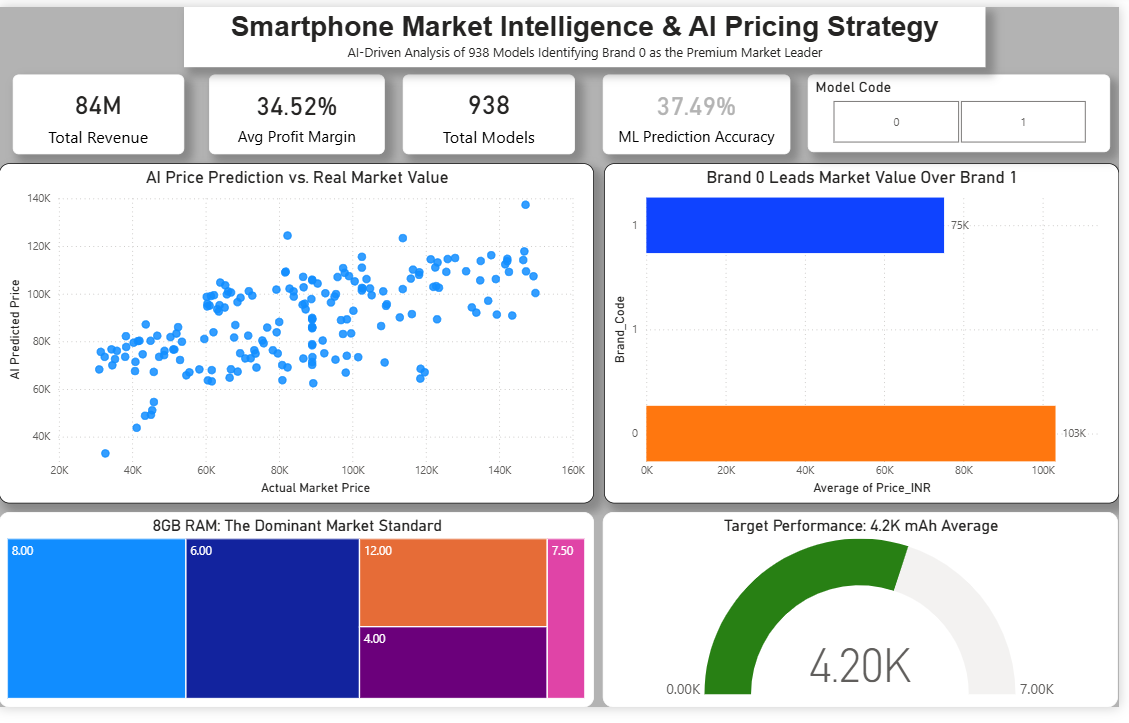

This screenshot's page, from the dashboard's own definition file:
{"tool":"powerbi","page":{"name":"Page 1","canvas":[1280,800],"ordinal":0},"visuals":[{"type":"card","title":"Total Revenue","fields":{"Values":["Sum(model_ready_data.Price_INR)"]},"box":[15.9,76.7,195.8,91.3],"z":0},{"type":"card","fields":{"Values":["Avg(model_ready_data.Profit_Margin)"]},"box":[239.4,76.7,201.1,91.3],"z":1000},{"type":"card","title":"Total Models","fields":{"Values":["model_ready_data.Total Models"]},"box":[461.6,76.7,197.1,91.3],"z":2000},{"type":"card","fields":{"Values":["model_ready_data.Model Accuracy"]},"box":[690.5,76.7,214.3,91.3],"z":3000},{"type":"scatterChart","title":"AI Price Prediction vs. Real Market Value","fields":{"X":["model_results_for_dashboard.Actual_Price"],"Y":["model_results_for_dashboard.Predicted_Price"]},"box":[0,178.6,679.9,388.9],"z":4000},{"type":"clusteredBarChart","title":"Brand 0 Leads Market Value Over Brand 1","fields":{"Category":["model_ready_data.Brand_Code"],"Y":["Avg(model_ready_data.Price_INR)"]},"box":[691.8,178.6,588.6,388.9],"z":5000},{"type":"slicer","title":"Model Code","fields":{"Values":["model_ready_data.Brand_Code"]},"box":[923.6,77,345.8,89.2],"z":6000},{"type":"treemap","title":"8GB RAM: The Dominant Market Standard","fields":{"Group":["model_ready_data.RAM_GB"],"Values":["CountNonNull(model_ready_data.Price_INR)"]},"box":[0,576.7,679.9,223.5],"z":7000},{"type":"gauge","title":"Target Performance: 4.2K mAh Average","fields":{"Y":["Avg(model_ready_data.Battery_mAh)"]},"box":[690.5,576.7,588.6,223.5],"z":8000},{"type":"textbox","box":[211.4,0,916.3,68.4],"z":9000}]}

Visuals, with their boxes in screenshot pixels (x1, y1, x2, y2), scaled from the page's 1280x800 canvas onto the 1129x723 screenshot:
"Total Revenue" card: box=[14, 69, 187, 152]
card - Avg(model_ready_data.Profit_Margin): box=[211, 69, 389, 152]
"Total Models" card: box=[407, 69, 581, 152]
card - model_ready_data.Model Accuracy: box=[609, 69, 798, 152]
"AI Price Prediction vs. Real Market Value" scatterChart: box=[0, 161, 600, 513]
"Brand 0 Leads Market Value Over Brand 1" clusteredBarChart: box=[610, 161, 1128, 513]
"Model Code" slicer: box=[815, 70, 1120, 150]
"8GB RAM: The Dominant Market Standard" treemap: box=[0, 521, 600, 722]
"Target Performance: 4.2K mAh Average" gauge: box=[609, 521, 1128, 722]
textbox: box=[186, 0, 995, 62]
